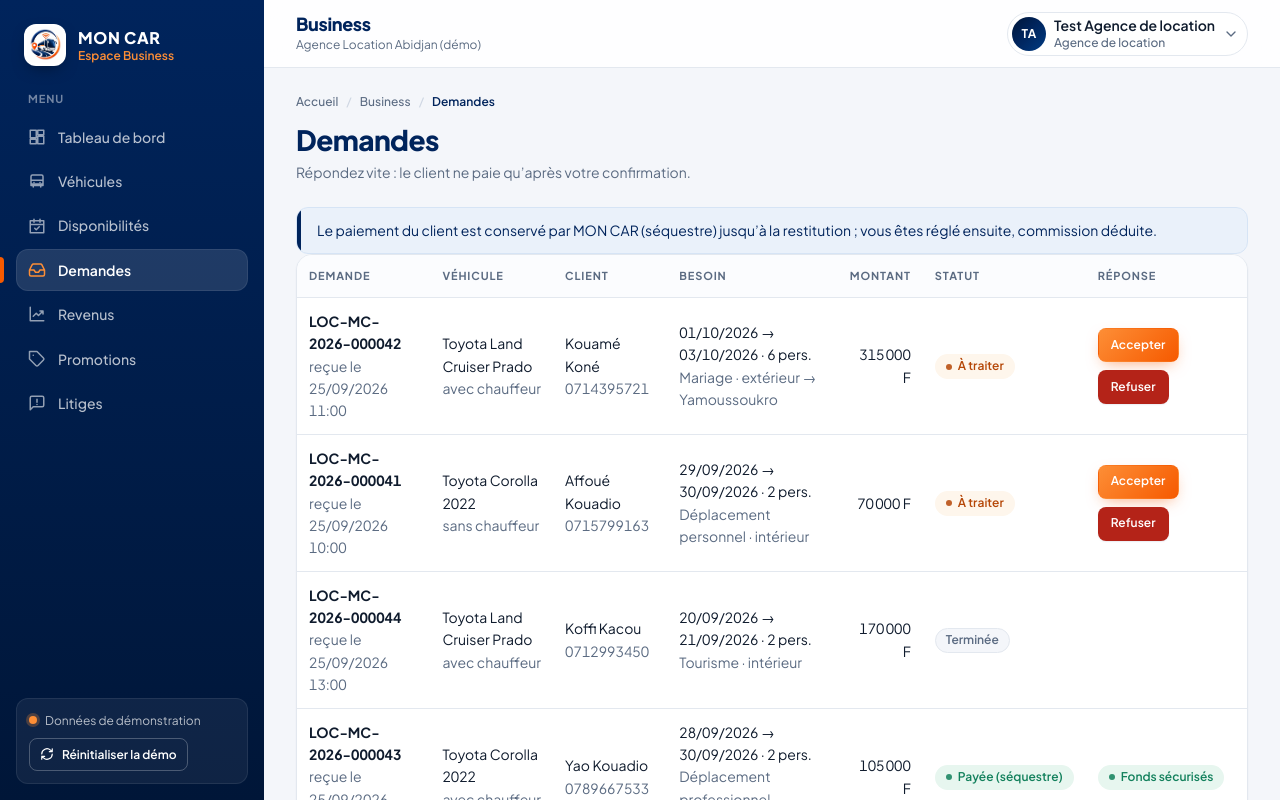
Test: Espace BUSINESS — location et VTC › refuse une demande sans motif puis avec motif transmis au client
Click the button "Refuser" in the row of "25/09/2026 10:00": [1133, 524] box x1=1098 y1=507 x2=1169 y2=541
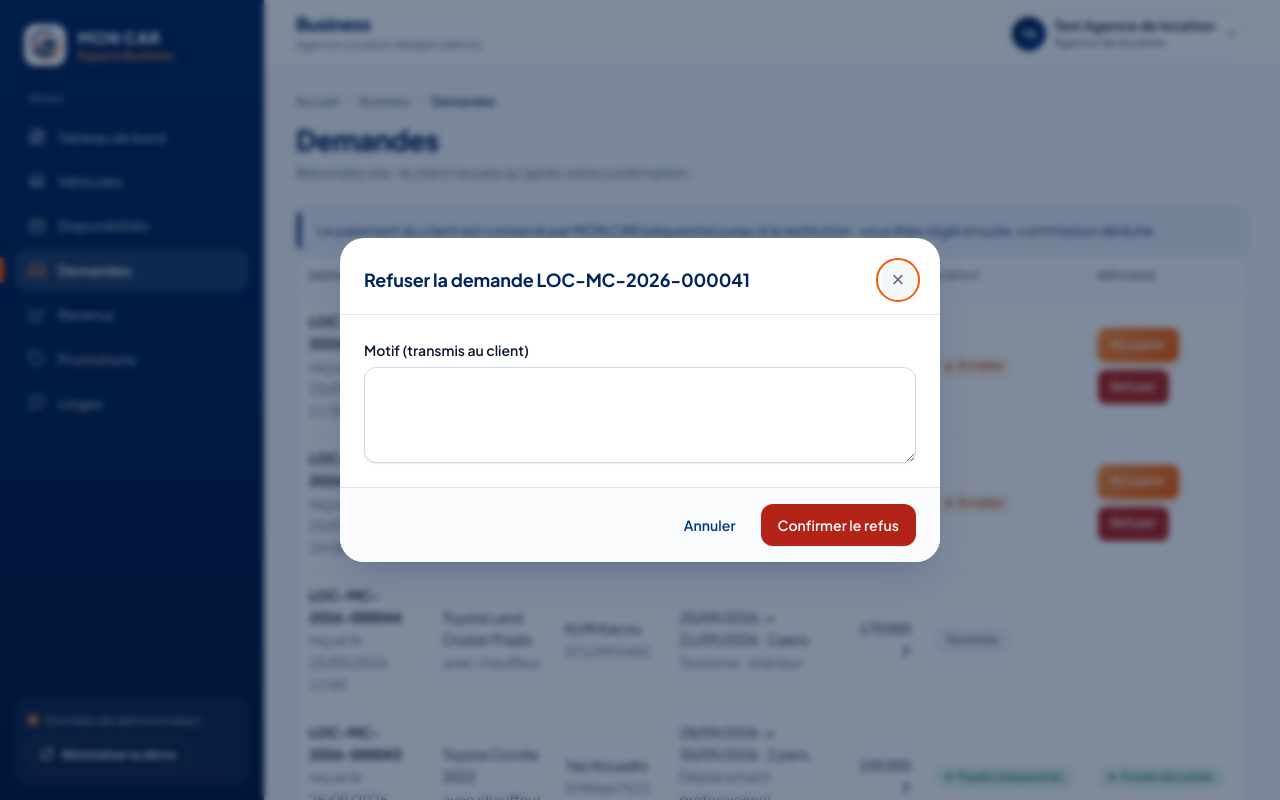
Click the button "Confirmer le refus": [838, 525] box x1=761 y1=504 x2=916 y2=546
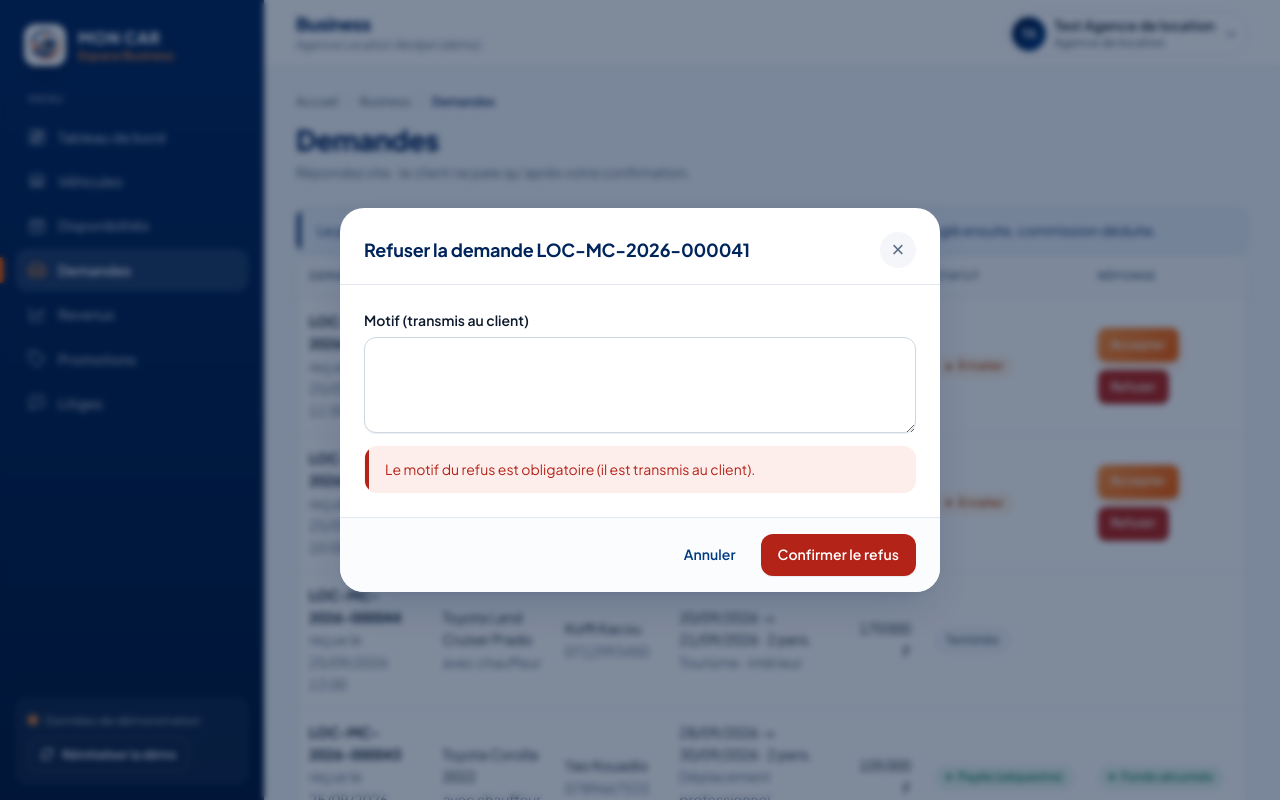
Now the text "Le motif du refus est obligatoire" is shown, box x1=385 y1=460 x2=755 y2=478
In the text box labelled "Motif (transmis au client)": [640, 386] box x1=364 y1=338 x2=916 y2=434, type "Véhicule en révision"
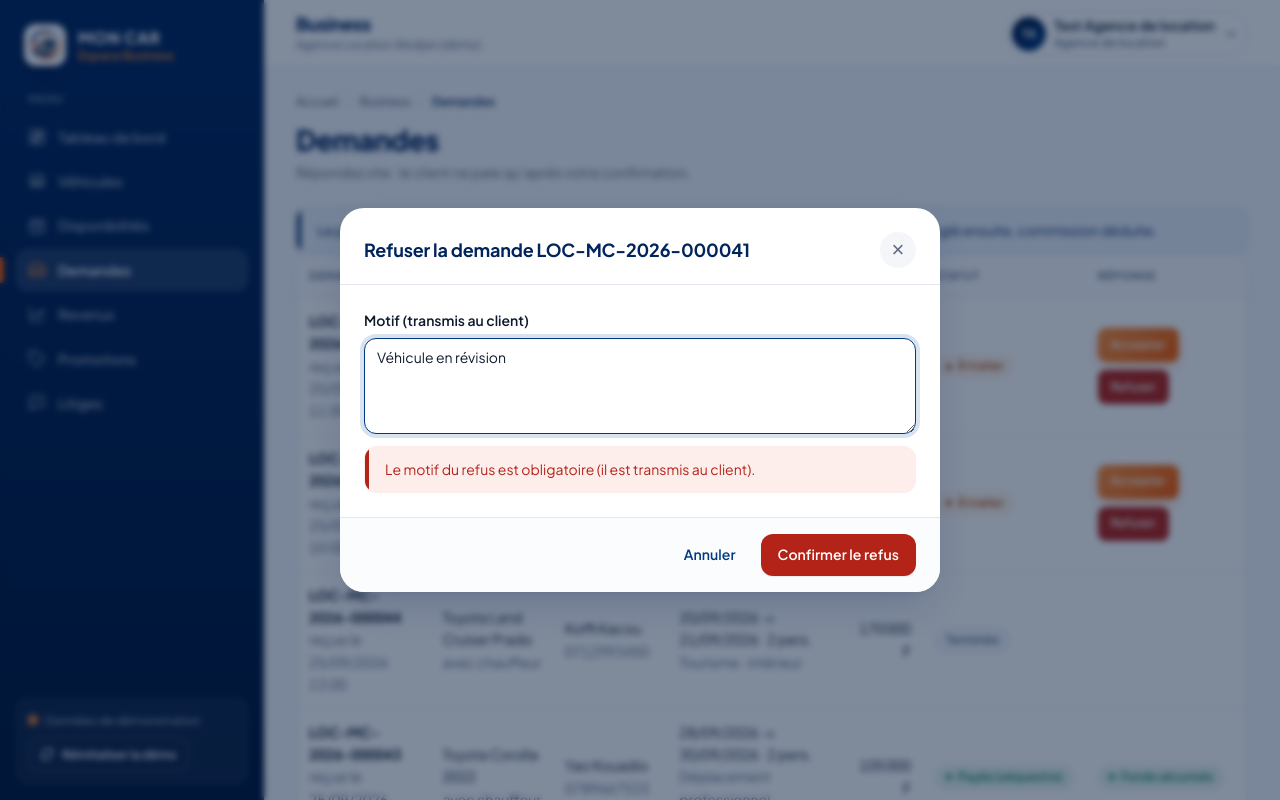
Click the button "Confirmer le refus": [838, 555] box x1=761 y1=534 x2=916 y2=576
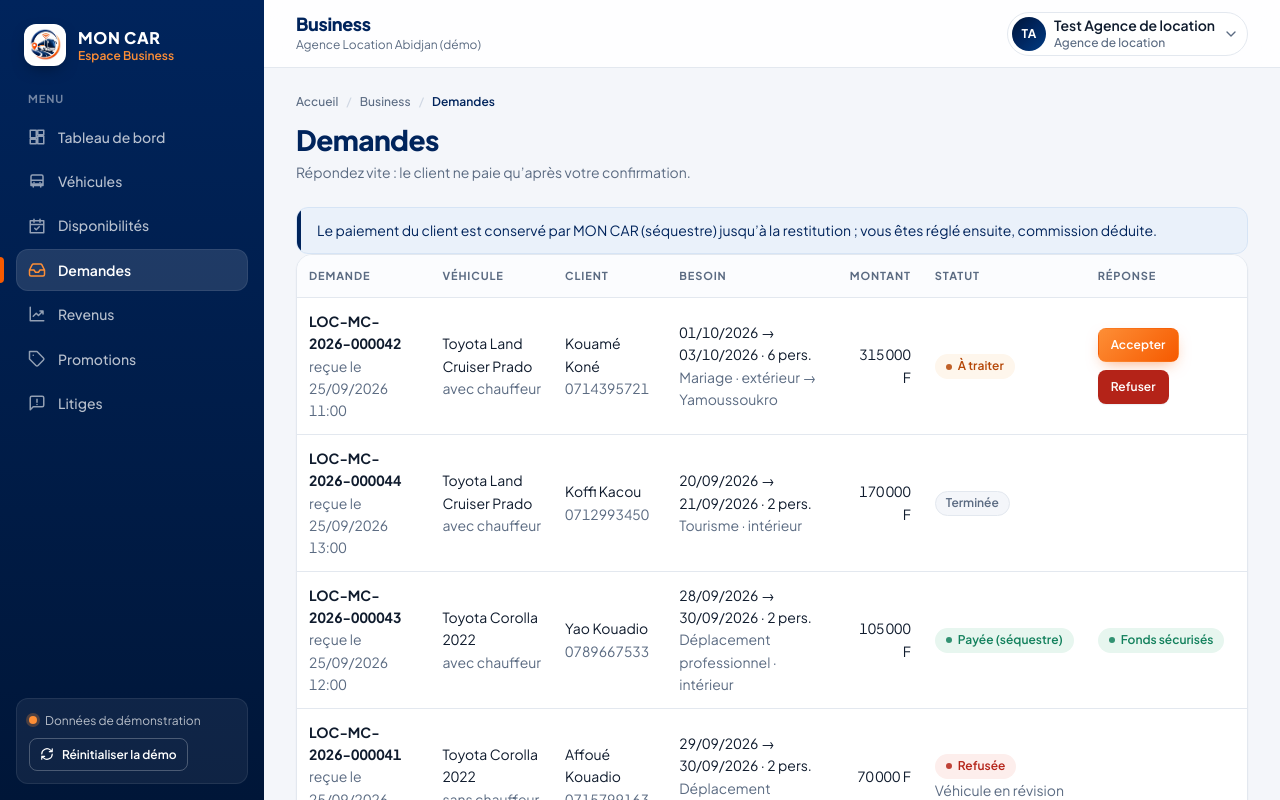
Now the text "Véhicule en révision" is shown, box x1=935 y1=781 x2=1064 y2=799
